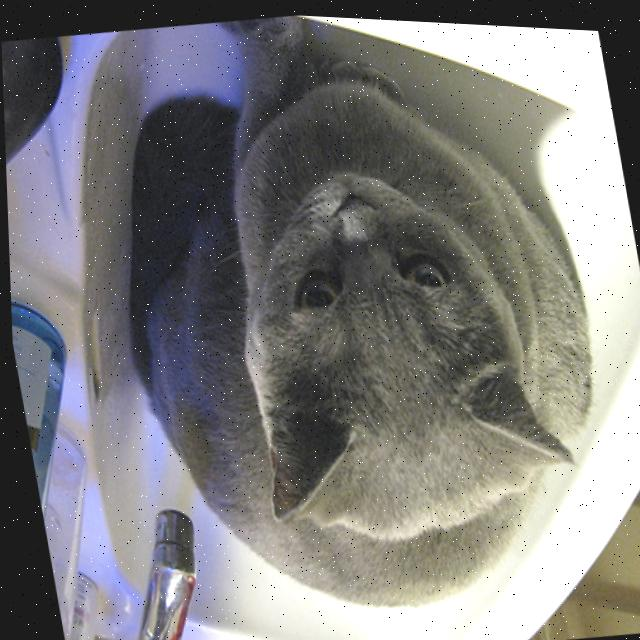British Shorthair: (75, 3, 633, 640)
